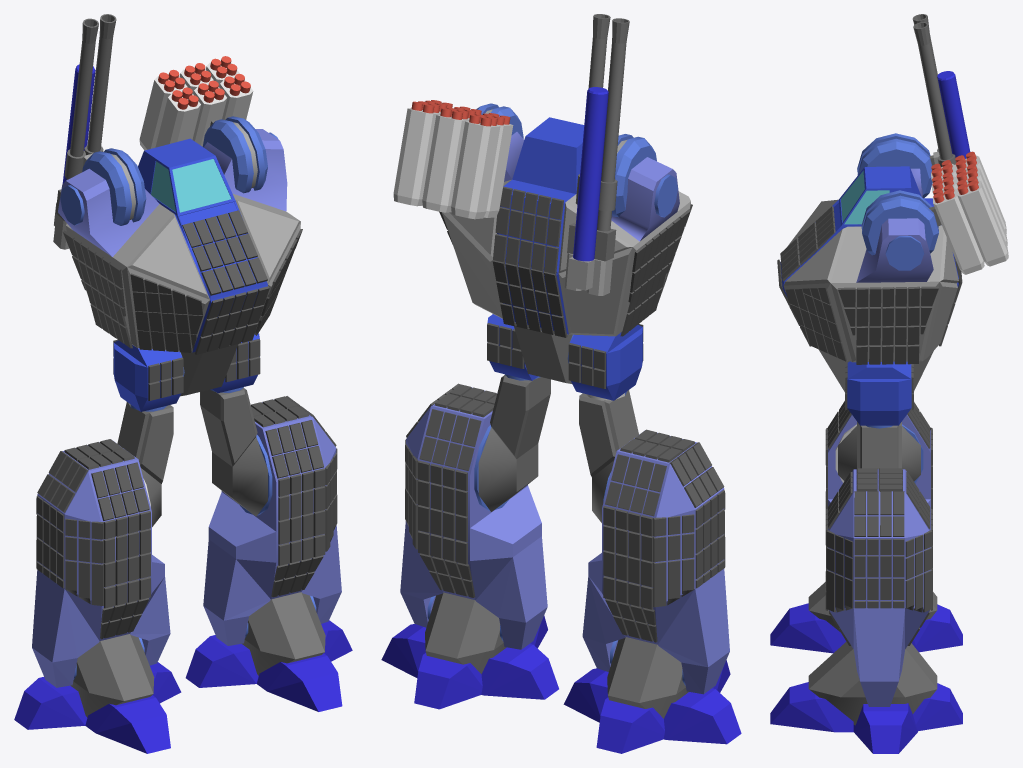
File: Mech_blue_body.fbx
3 renders of one model, left to right at view 1: azimuth 30°, elevation 25°; view 2: azimuth 150°, elevation 25°; view 3: azimuth 270°, elevation 25°, orthographic. The views are drawn at different scales.
Parts seen in each view (by area): view 1: T, Rl3, Ll3, DR01, Ll5, Rl5, Ll2, DG, Rl4, Ll4, Rl1, Rl2 (+2 smaller); view 2: T, Rl3, Ll3, DR01, DG, Rl5, Ll5, Ll2, Rl4, Ll4, Rl1, Rl2 (+2 smaller); view 3: T, Ll3, Ll5, DR01, Ll4, Ll1, Rl5, DG, Rl3, Ll2, Rl2, Ct (+1 smaller).
Boxes of the visible parts, x1,y1,x2,y2 form: T: (58,116,302,354); Rl3: (32,439,170,687); Ll3: (203,396,341,645); DR01: (139,56,253,150); Ll5: (185,620,352,711); Rl5: (14,662,181,753); Ll2: (200,387,267,516); DG: (53,14,116,249); Rl4: (70,634,154,717); Ll4: (242,592,325,675); Rl1: (113,339,183,411); Rl2: (117,402,173,526); T: (439,103,692,337); Rl3: (582,429,729,694); Ll3: (400,383,547,649); DR01: (393,100,513,219); DG: (564,14,629,295); Rl5: (563,660,741,753); Ll5: (381,615,558,709); Ll2: (478,375,550,511); Rl4: (607,637,688,718); Ll4: (425,592,506,673); Rl1: (568,324,643,400); Rl2: (579,390,638,522); T: (777,133,962,364); Ll3: (825,468,932,706); Ll5: (770,682,962,753); DR01: (929,151,1008,274); Ll4: (808,641,937,725); Ll1: (845,361,913,428); Rl5: (770,603,962,653); DG: (912,14,970,166); Rl3: (825,401,932,509); Ll2: (857,422,901,469); Rl2: (838,426,920,481); Ct: (818,349,933,391).
Bounding box in the file's own units: 1.4 × 2.74 × 0.9429.
